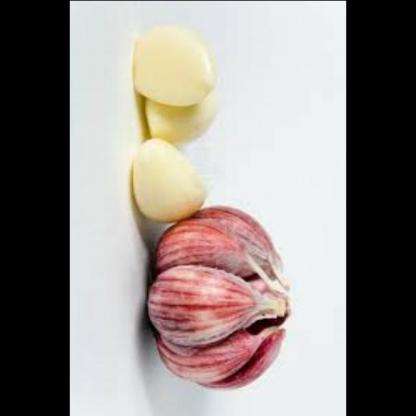garlic: (142, 198, 304, 388), (126, 21, 222, 108), (127, 136, 215, 229), (136, 86, 225, 145)
